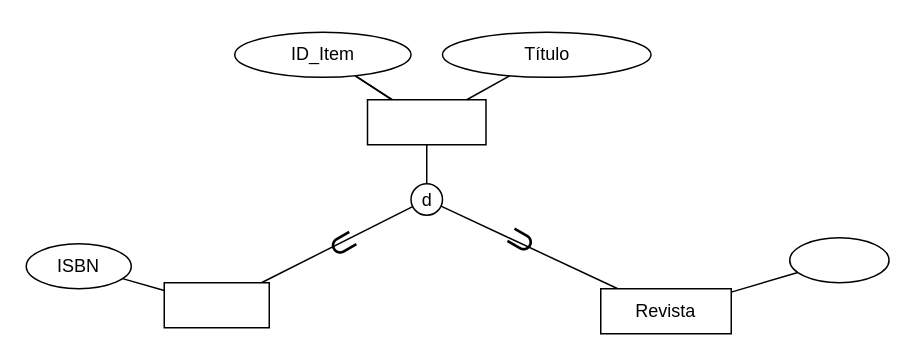
This 917x360 diagram has some shape labels left out. Here are the shapes that lost their labels. From the top down, the centre of each, then its label:
pixel 426 121: Item_Acervo
pixel 838 259: Edição
pixel 216 304: Livro
